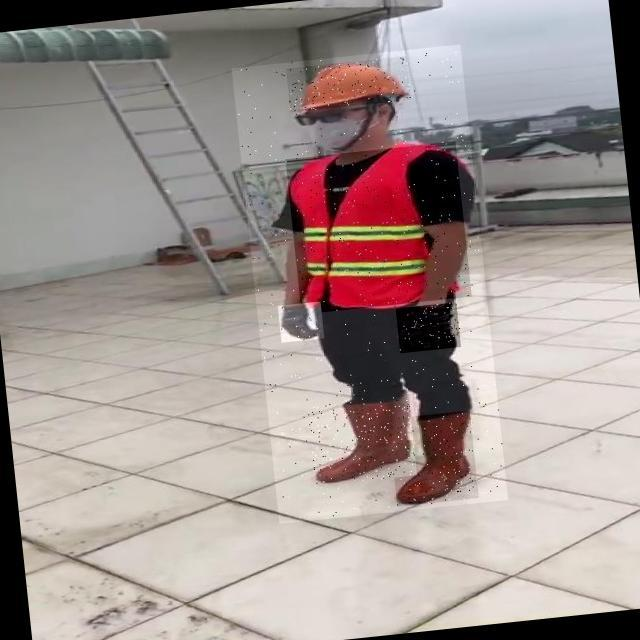Gloves: (396, 302, 461, 353), (277, 301, 324, 342)
Helmet: (286, 56, 411, 112)
Human: (231, 44, 508, 524)
Safety Boot: (308, 395, 418, 485), (388, 410, 479, 506)
Safety Vest: (285, 141, 471, 314)
